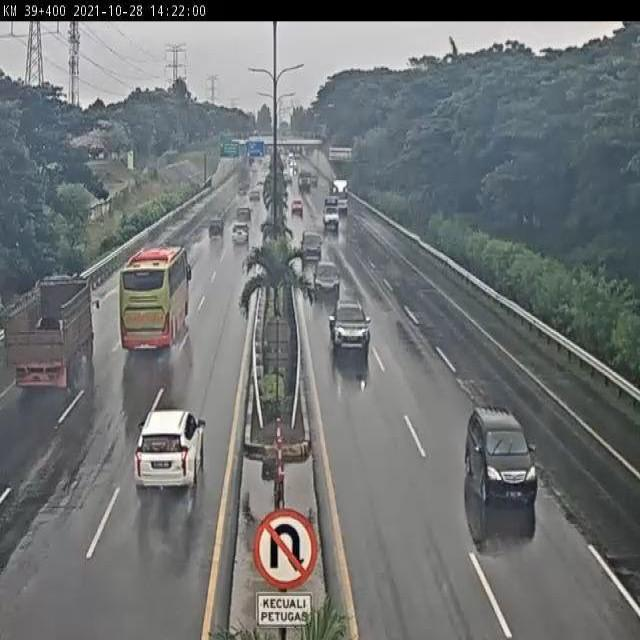big bus: (121, 244, 191, 356)
car: (463, 402, 540, 510), (135, 411, 208, 496), (327, 296, 374, 359), (311, 258, 342, 302), (300, 227, 324, 260)
truck-l-: (5, 272, 99, 389)
